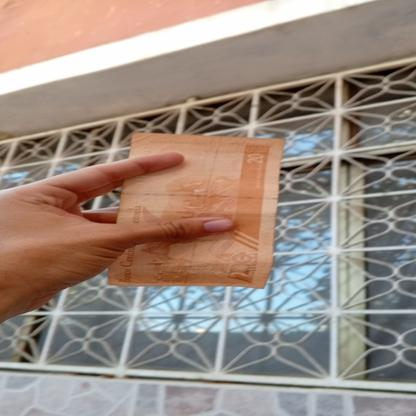twenty-back-vef: (106, 132, 284, 288)
